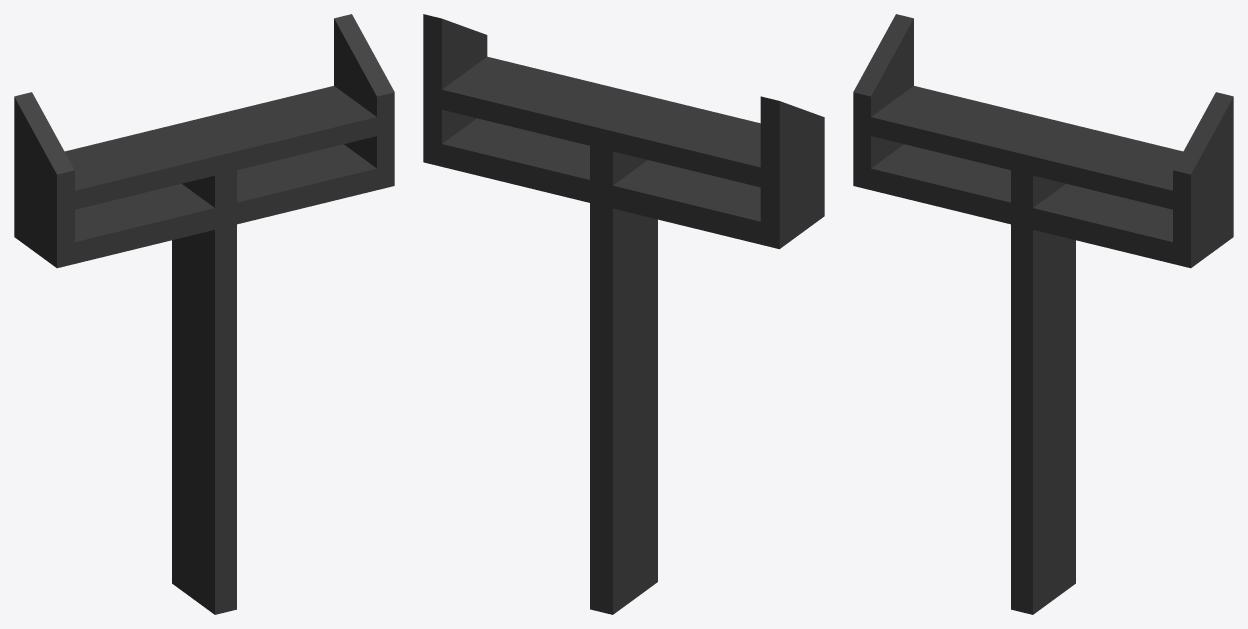
File: spoiler2.glb
3 views of the same model, side by side, from view 1: azimuth 30°, elevation 25°; view 2: azimuth 150°, elevation 25°; view 3: azimuth 330°, elevation 25° (orthographic). The views are drawn at different scales.
Parts seen in each view (by area): view 1: spoiler2; view 2: spoiler2; view 3: spoiler2.
Part boxes in pixels (left/top/right/bottom): spoiler2: left=14, top=14, right=394, bottom=614; spoiler2: left=423, top=14, right=824, bottom=614; spoiler2: left=853, top=14, right=1233, bottom=614.
Bounding box in the file's own units: 1.84 × 2.73 × 0.4031.
1 material, 1 textured.
